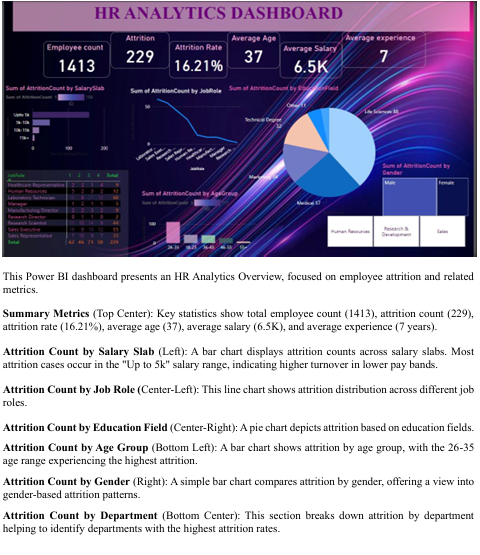

The page's visual inventory and layout, read from the dashboard file:
{"tool":"powerbi","page":{"name":"Page 1","canvas":[1280,720],"ordinal":0},"visuals":[{"type":"textbox","box":[24.4,0,1244.3,84.6],"z":0},{"type":"card","title":"Employee count","fields":{"Values":["Sum(HR_Analytics.EmployeeCount)"]},"box":[107.4,112.2,180.5,102.5],"z":1000},{"type":"card","title":"Attrition","fields":{"Values":["Sum(HR_Analytics.AttritionCount)"]},"box":[291.2,86.2,159.4,102.5],"z":2000},{"type":"card","title":"Attrition Rate","fields":{"Values":["HR_Analytics.AttritionRate"]},"box":[450.6,112.2,157.8,104.1],"z":3000},{"type":"card","title":"Average Age","fields":{"Values":["Avg(HR_Analytics.Age)"]},"box":[608.3,86.2,143.1,102.5],"z":4000},{"type":"card","title":"Average Salary","fields":{"Values":["Avg(HR_Analytics.MonthlyIncome)"]},"box":[751.5,115.5,169.2,100.8],"z":5000},{"type":"card","title":"Average Age","fields":{"Values":["Avg(HR_Analytics.YearsAtCompany)"]},"box":[920.6,84.6,178.9,102.5],"z":6000},{"type":"pieChart","fields":{"Category":["HR_Analytics.EducationField"],"Y":["Sum(HR_Analytics.AttritionCount)"]},"box":[608.3,234.2,554.7,364.3],"z":7000},{"type":"columnChart","fields":{"Category":["HR_Analytics.AgeGroup"],"Y":["Sum(HR_Analytics.AttritionCount)"]},"box":[370.9,531.9,325.3,188.7],"z":8000},{"type":"pivotTable","fields":{"Rows":["HR_Analytics.JobRole"],"Columns":["HR_Analytics.JobSatisfaction"],"Values":["Sum(HR_Analytics.AttritionCount)"]},"box":[0,475,339.9,245.6],"z":9000},{"type":"clusteredBarChart","fields":{"Category":["HR_Analytics.SalarySlab"],"Y":["Sum(HR_Analytics.AttritionCount)"]},"box":[0,234.2,287.9,206.6],"z":10000},{"type":"lineChart","fields":{"Y":["Sum(HR_Analytics.AttritionCount)"],"Category":["HR_Analytics.JobRole"]},"box":[339.9,242.4,310.7,240.7],"z":11000},{"type":"treemap","fields":{"Group":["HR_Analytics.Gender"],"Values":["Sum(HR_Analytics.AttritionCount)"]},"box":[1026.3,453.8,242.4,156.1],"z":12000},{"type":"slicer","fields":{"Values":["HR_Analytics.Department"]},"box":[855.6,583.9,424.5,115.5],"z":13000}]}

Visuals, with their boxes on the page's 1280x720 design canvas (x1, y1, x2, y2). These are canvas units, not pixel positions in the 480x555 screenshot, which may show the page scaled, cropped or inside an application window:
textbox: select_region(24, 0, 1269, 85)
"Employee count" card: select_region(107, 112, 288, 215)
"Attrition" card: select_region(291, 86, 451, 189)
"Attrition Rate" card: select_region(451, 112, 608, 216)
"Average Age" card: select_region(608, 86, 751, 189)
"Average Salary" card: select_region(752, 116, 921, 216)
"Average Age" card: select_region(921, 85, 1100, 187)
pieChart - HR_Analytics.EducationField x Sum(HR_Analytics.AttritionCount): select_region(608, 234, 1163, 598)
columnChart - HR_Analytics.AgeGroup x Sum(HR_Analytics.AttritionCount): select_region(371, 532, 696, 721)
pivotTable - HR_Analytics.JobRole x HR_Analytics.JobSatisfaction: select_region(0, 475, 340, 721)
clusteredBarChart - HR_Analytics.SalarySlab x Sum(HR_Analytics.AttritionCount): select_region(0, 234, 288, 441)
lineChart - Sum(HR_Analytics.AttritionCount) x HR_Analytics.JobRole: select_region(340, 242, 651, 483)
treemap - HR_Analytics.Gender x Sum(HR_Analytics.AttritionCount): select_region(1026, 454, 1269, 610)
slicer - HR_Analytics.Department: select_region(856, 584, 1280, 699)
